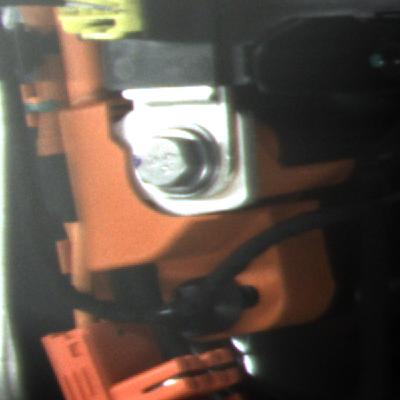nut_b: (131, 117, 220, 200)
